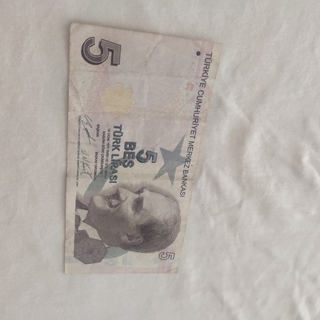5TLFront: (63, 22, 221, 273)
